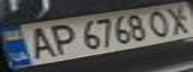6: (78, 17, 103, 51), (112, 12, 136, 45)
7: (93, 15, 115, 47)
8: (127, 11, 151, 43)
A: (18, 25, 57, 61)
O: (142, 7, 178, 38)
P: (42, 21, 78, 56)
X: (160, 3, 193, 35)
